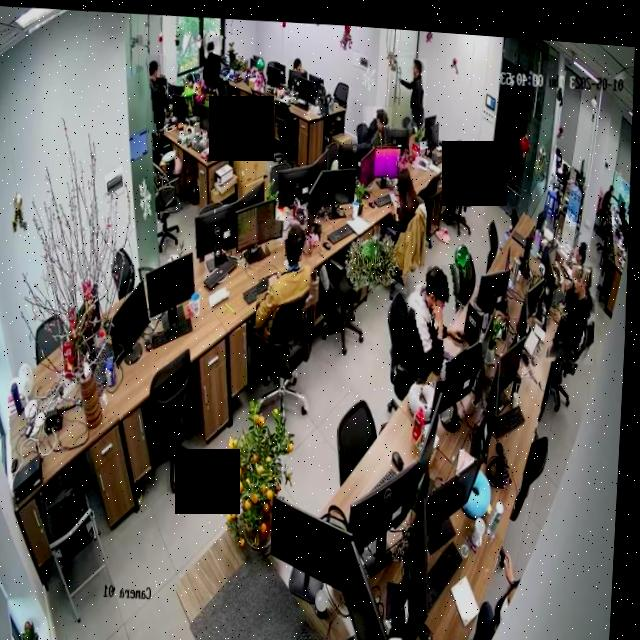person: (404, 254, 474, 379), (256, 215, 322, 341), (546, 251, 600, 355), (388, 152, 429, 227), (396, 51, 428, 131), (146, 51, 168, 131), (199, 30, 225, 95), (362, 99, 393, 143), (573, 222, 593, 269), (206, 76, 228, 116)
